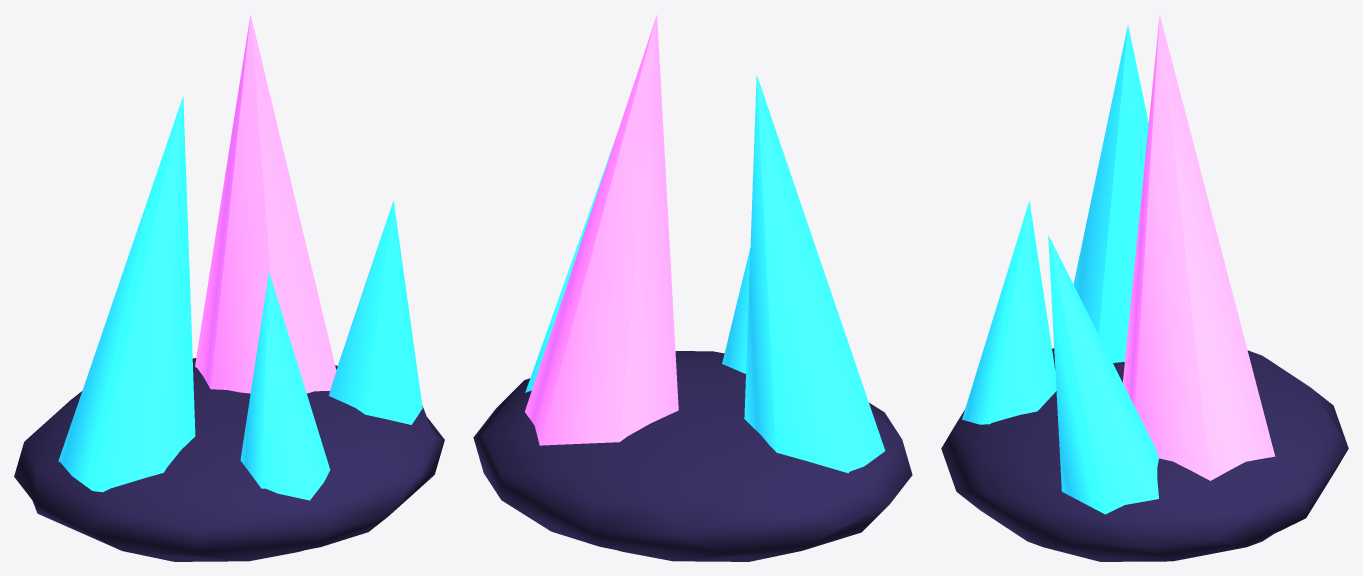
File: crystal.glb
The picture shows the model from 3 angles, left to right: view 1: azimuth 30°, elevation 25°; view 2: azimuth 150°, elevation 25°; view 3: azimuth 270°, elevation 25°; orthographic projection. The views are drawn at different scales.
Parts seen in each view (by area): view 1: Base_mineral, Prisma_1, Prisma_2, Prisma_3, Prisma_4; view 2: Base_mineral, Prisma_2, Prisma_1, Prisma_4, Prisma_3; view 3: Base_mineral, Prisma_2, Prisma_3, Prisma_1, Prisma_4.
Boxes of the visible parts, bbox=[...] form: Base_mineral: bbox=[14, 358, 444, 561]; Prisma_1: bbox=[58, 96, 195, 492]; Prisma_2: bbox=[195, 14, 336, 393]; Prisma_3: bbox=[329, 200, 422, 424]; Prisma_4: bbox=[240, 272, 330, 500]; Base_mineral: bbox=[473, 351, 912, 561]; Prisma_2: bbox=[525, 15, 678, 445]; Prisma_1: bbox=[744, 75, 885, 473]; Prisma_4: bbox=[722, 247, 750, 373]; Prisma_3: bbox=[525, 136, 616, 392]; Base_mineral: bbox=[941, 348, 1348, 561]; Prisma_2: bbox=[1122, 14, 1275, 480]; Prisma_3: bbox=[1048, 235, 1158, 514]; Prisma_1: bbox=[1073, 25, 1148, 362]; Prisma_4: bbox=[962, 200, 1056, 424].
Size of the model in its own units: 0.164 by 0.2 by 0.1443.
